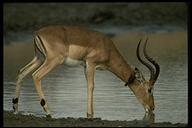antelope: (11, 24, 162, 120)
grass: (156, 31, 187, 58)
water: (52, 74, 84, 113), (158, 82, 186, 121), (98, 79, 120, 117)
